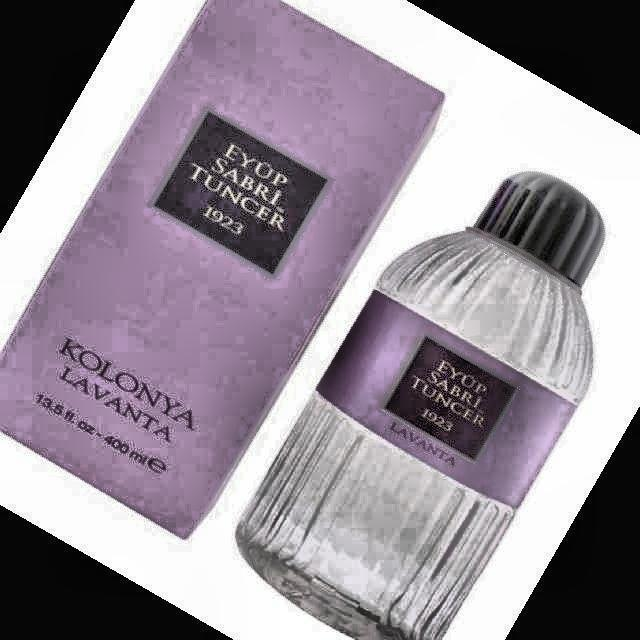cardboard: (0, 0, 442, 537)
plastic: (238, 172, 604, 640)
